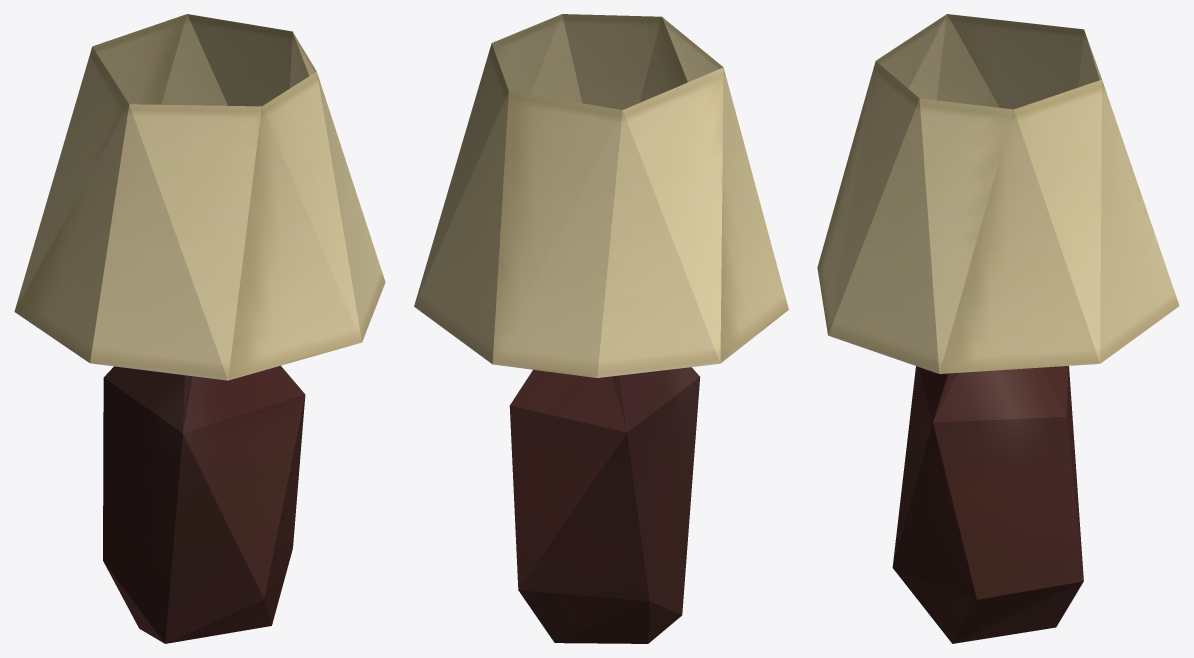
The model's file is Lamp.fbx.
3 renders of one model, left to right at view 1: azimuth 30°, elevation 25°; view 2: azimuth 150°, elevation 25°; view 3: azimuth 270°, elevation 25°, orthographic.
Parts seen in each view (by area): view 1: Cylinder; view 2: Cylinder; view 3: Cylinder.
Part boxes in pixels (box(x1,y1,x2,y2)): Cylinder: box(14, 14, 385, 643); Cylinder: box(414, 14, 788, 643); Cylinder: box(817, 14, 1179, 643).
Bounding box in the file's own units: 94.85 × 164 × 96.5.
